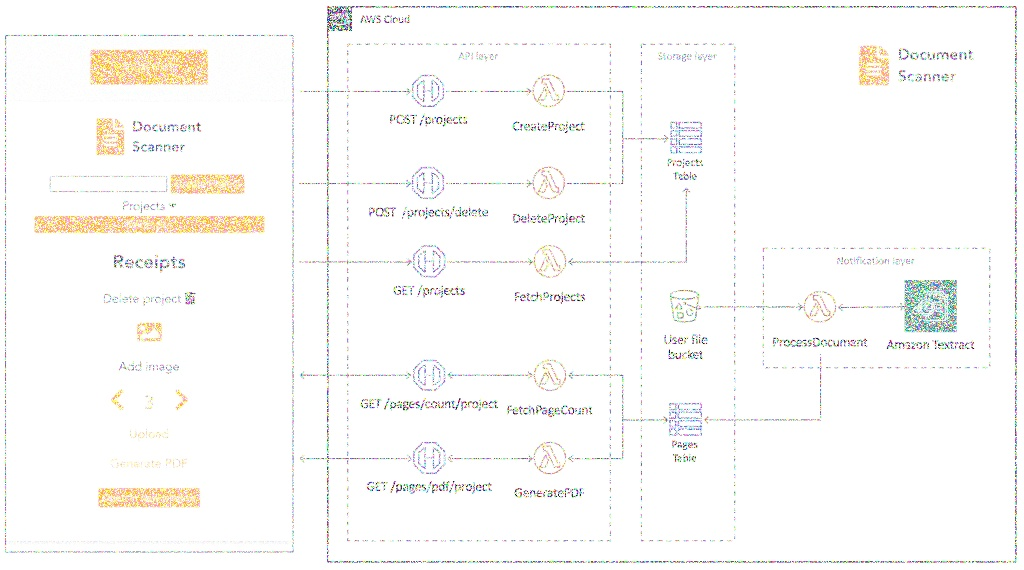API-Gateway: (408, 67, 447, 110), (408, 161, 448, 201), (410, 437, 450, 477), (410, 352, 448, 392), (412, 240, 448, 281)
Lambda: (527, 353, 572, 395), (528, 67, 570, 111), (798, 283, 840, 325), (532, 435, 571, 479), (532, 160, 571, 201), (533, 240, 568, 279)
S3: (664, 283, 711, 328)
Table: (664, 112, 706, 158), (666, 396, 708, 442)
Text File: (853, 40, 896, 91), (93, 111, 128, 160)
Textract: (900, 274, 963, 336)
aws: (322, 2, 355, 32)
